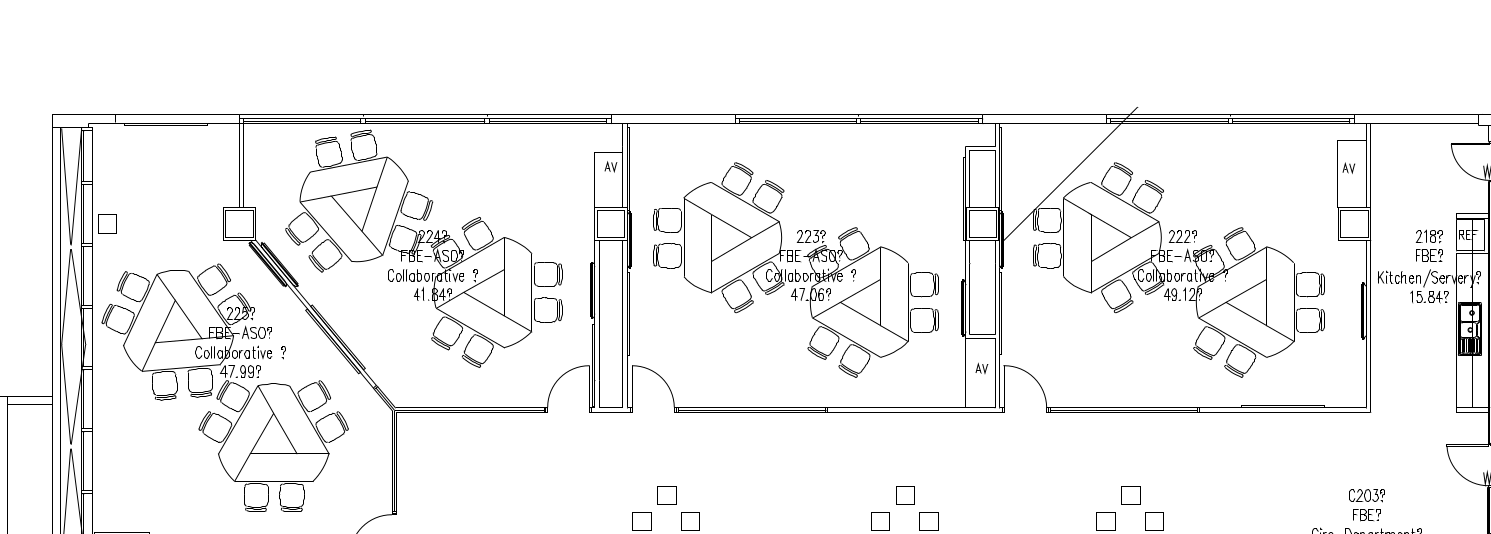door: (1438, 435, 1491, 493), (1436, 133, 1489, 191), (1002, 355, 1055, 413), (629, 357, 682, 415), (540, 357, 593, 415)
